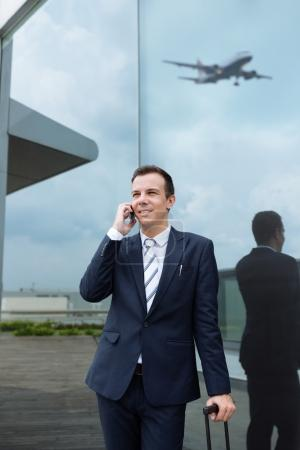phone: (115, 197, 141, 233)
talk: (114, 188, 165, 238)
